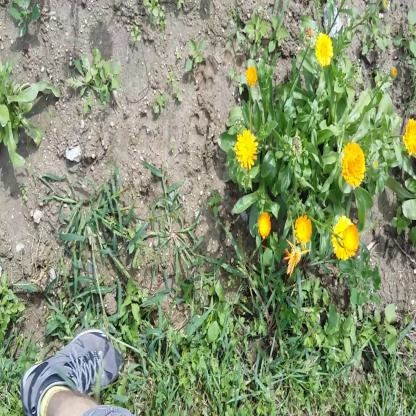marigold: (331, 206, 359, 260), (341, 141, 365, 186), (234, 129, 259, 169), (294, 212, 312, 246), (316, 34, 334, 65), (402, 117, 416, 155), (257, 211, 271, 240), (245, 62, 258, 87)
